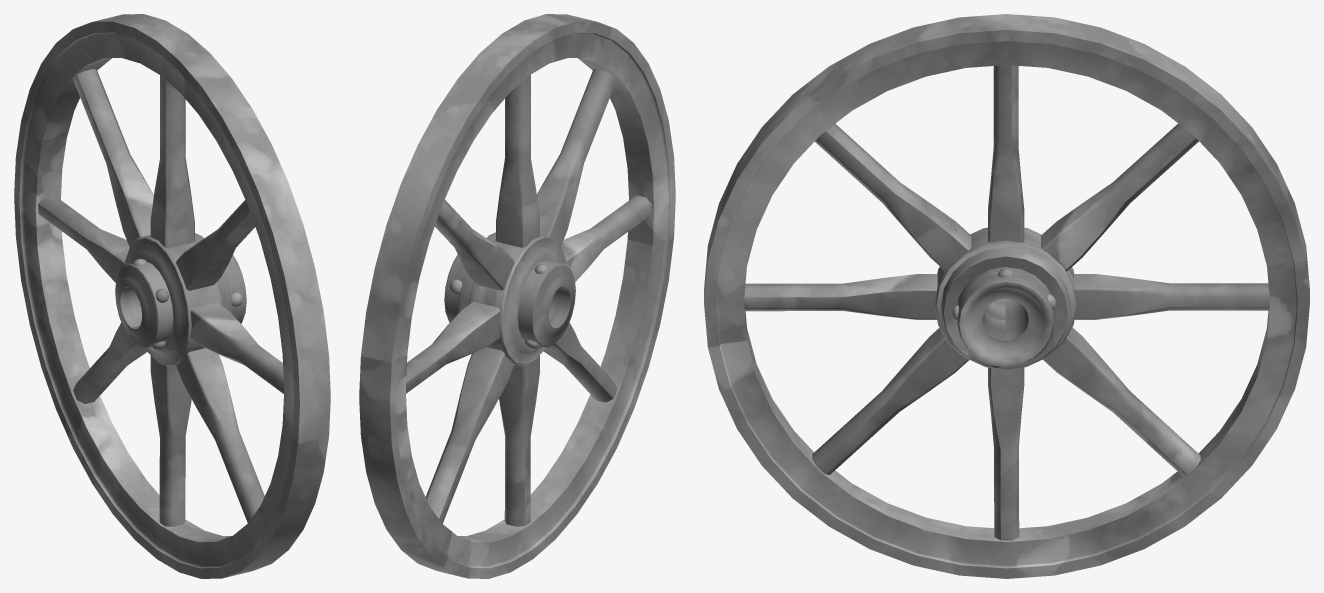
The model's file is SM_Wheel_01a.fbx.
3 views of the same model, side by side, from view 1: azimuth 30°, elevation 25°; view 2: azimuth 150°, elevation 25°; view 3: azimuth 270°, elevation 25° (orthographic). The views are drawn at different scales.
Parts seen in each view (by area): view 1: SM_Wheel_01a_LOD0; view 2: SM_Wheel_01a_LOD0; view 3: SM_Wheel_01a_LOD0.
Part boxes in pixels (x1=…): SM_Wheel_01a_LOD0: x1=14, y1=14, x2=330, y2=578; SM_Wheel_01a_LOD0: x1=359, y1=14, x2=675, y2=578; SM_Wheel_01a_LOD0: x1=704, y1=14, x2=1309, y2=578.
Size of the model in its own units: 29.54 by 156 by 156.
